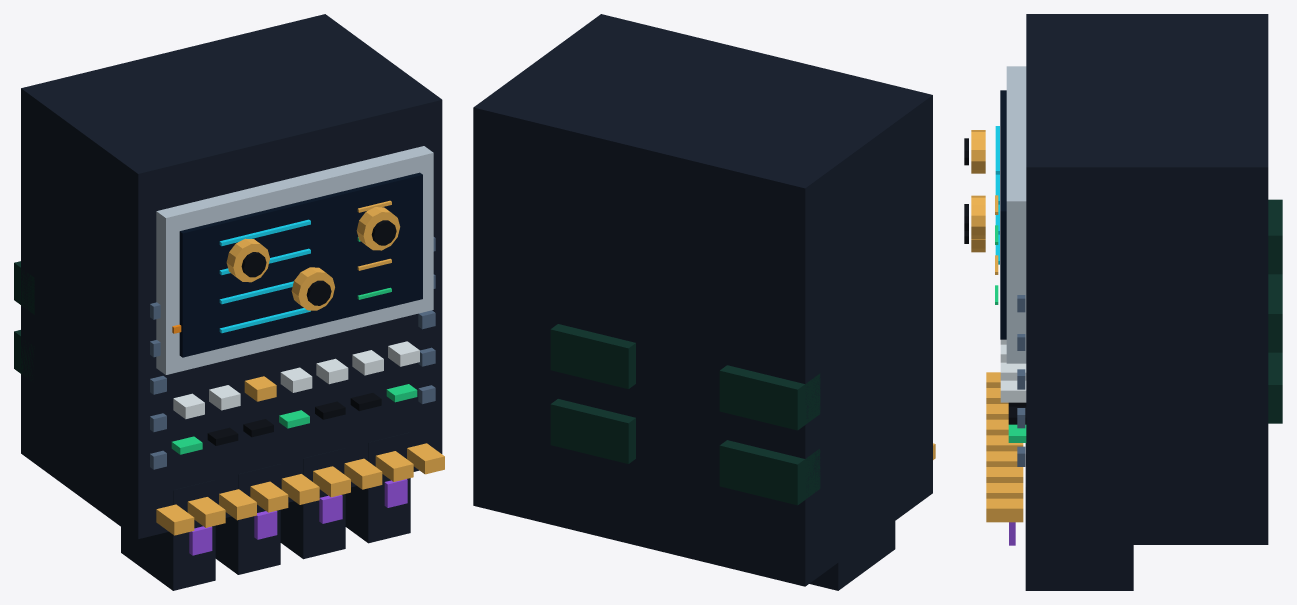
Rendered from 67_L91_FourPulsarGeometryAnalyzer.fbx.
3 renders of one model, left to right at view 1: azimuth 30°, elevation 25°; view 2: azimuth 150°, elevation 25°; view 3: azimuth 270°, elevation 25°, orthographic. The views are drawn at different scales.
Parts seen in each view (by area): view 1: L91_FourPulsarGeometryAnalyzer, L91_FourPulsarGeometryAnalyzer_Part_0012, L91_FourPulsarGeometryAnalyzer_Part_0015, L91_FourPulsarGeometryAnalyzer_Part_0017, L91_FourPulsarGeometryAnalyzer_Part_0013; view 2: L91_FourPulsarGeometryAnalyzer; view 3: L91_FourPulsarGeometryAnalyzer, L91_FourPulsarGeometryAnalyzer_Part_0017, L91_FourPulsarGeometryAnalyzer_Part_0013.
Part boxes in pixels (left/top/right/bottom): L91_FourPulsarGeometryAnalyzer: left=14, top=14, right=444, bottom=590; L91_FourPulsarGeometryAnalyzer_Part_0012: left=189, top=479, right=407, bottom=555; L91_FourPulsarGeometryAnalyzer_Part_0015: left=291, top=267, right=334, bottom=310; L91_FourPulsarGeometryAnalyzer_Part_0017: left=356, top=207, right=400, bottom=250; L91_FourPulsarGeometryAnalyzer_Part_0013: left=226, top=238, right=269, bottom=282; L91_FourPulsarGeometryAnalyzer: left=473, top=14, right=935, bottom=590; L91_FourPulsarGeometryAnalyzer: left=986, top=14, right=1282, bottom=590; L91_FourPulsarGeometryAnalyzer_Part_0017: left=971, top=195, right=985, bottom=239; L91_FourPulsarGeometryAnalyzer_Part_0013: left=971, top=130, right=985, bottom=173.
Size of the model in its own units: 108 by 144 by 94.29.
